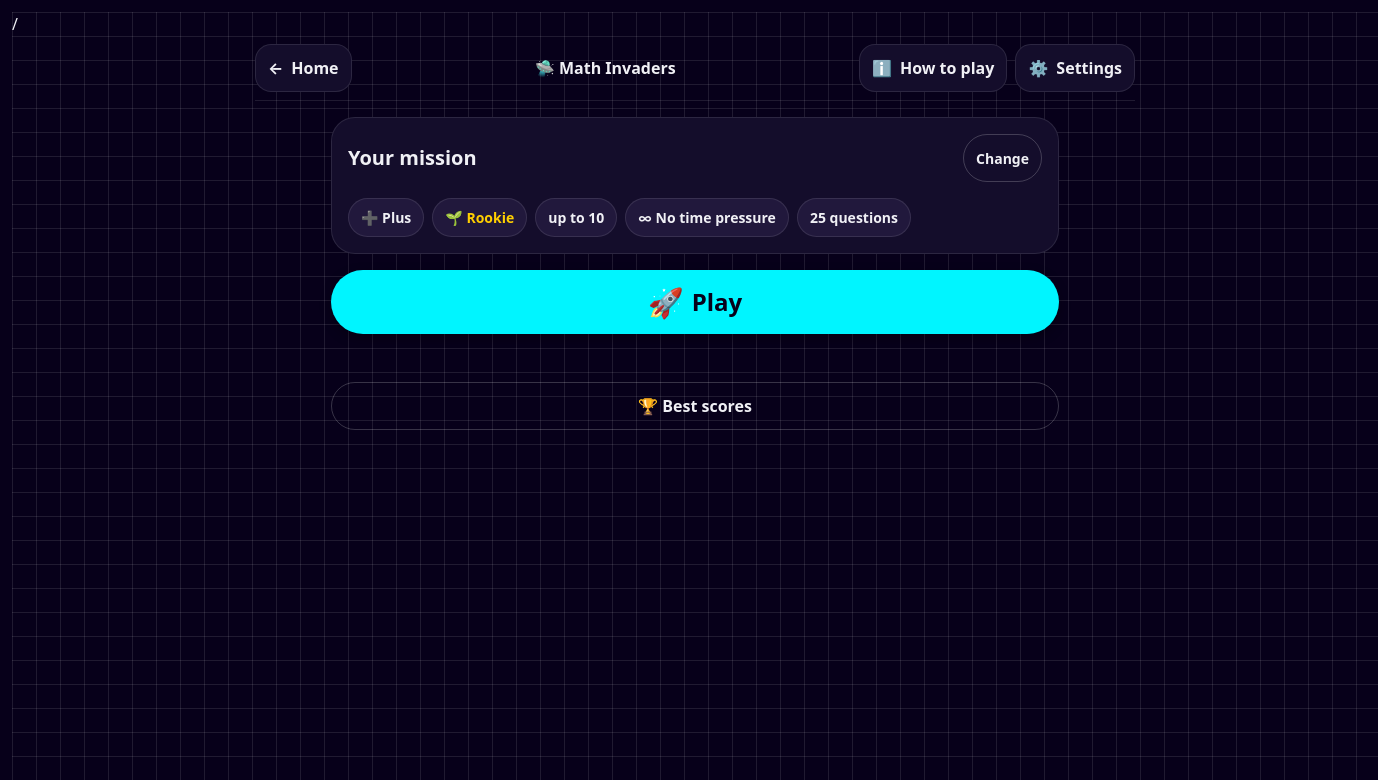
ArcadePage › keeps the leaderboard and the mission settings within reach
Click the button "🏆 Best scores" at (695, 406), box 331,382 -> 1059,430
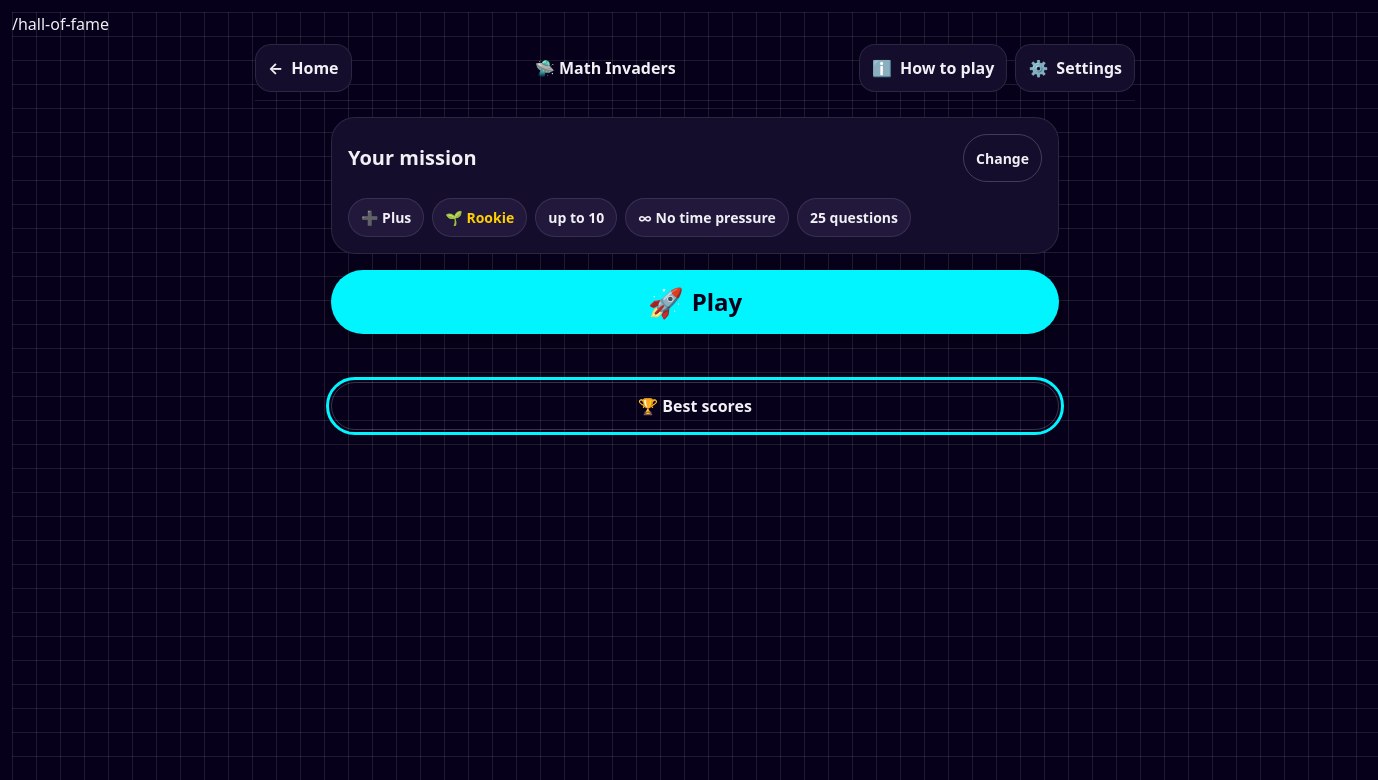
Now the text with test id "test-location" reads "/hall-of-fame", box 12,13 -> 109,35
Click the button "Change" at (1003, 158), box 963,134 -> 1042,182
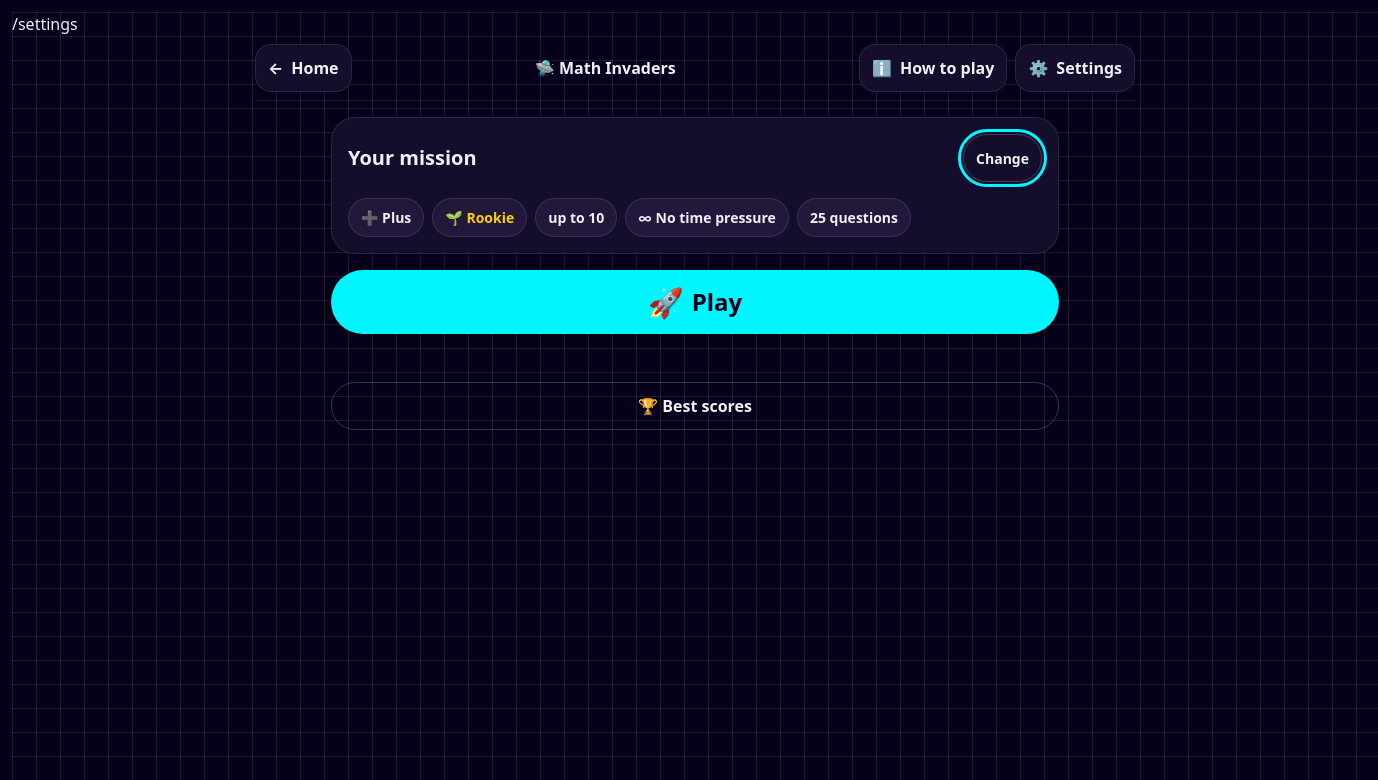
Now the text with test id "test-location" reads "/settings", box 12,13 -> 78,35
